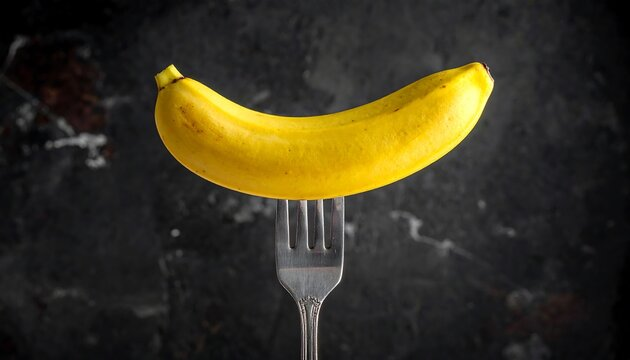banana: (145, 53, 495, 201)
